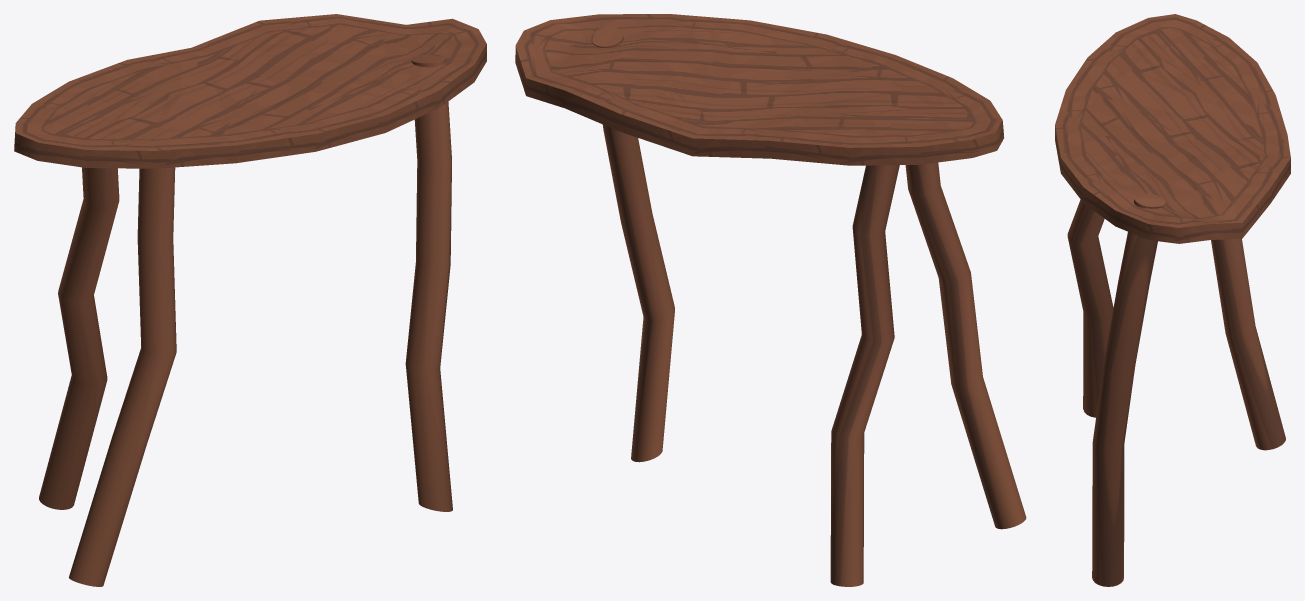
File: aanggnag_platform_02.fbx
3 views of the same model, side by side, from view 1: azimuth 30°, elevation 25°; view 2: azimuth 150°, elevation 25°; view 3: azimuth 270°, elevation 25° (orthographic). The views are drawn at different scales.
Parts seen in each view (by area): view 1: aanggnag_platform_02; view 2: aanggnag_platform_02; view 3: aanggnag_platform_02.
Boxes of the visible parts, left/top/right/bottom form: aanggnag_platform_02: left=14, top=14, right=486, bottom=586; aanggnag_platform_02: left=515, top=14, right=1026, bottom=586; aanggnag_platform_02: left=1055, top=14, right=1290, bottom=586.
Size of the model in its own units: 553 by 501 by 269.
1 material, 1 textured.
